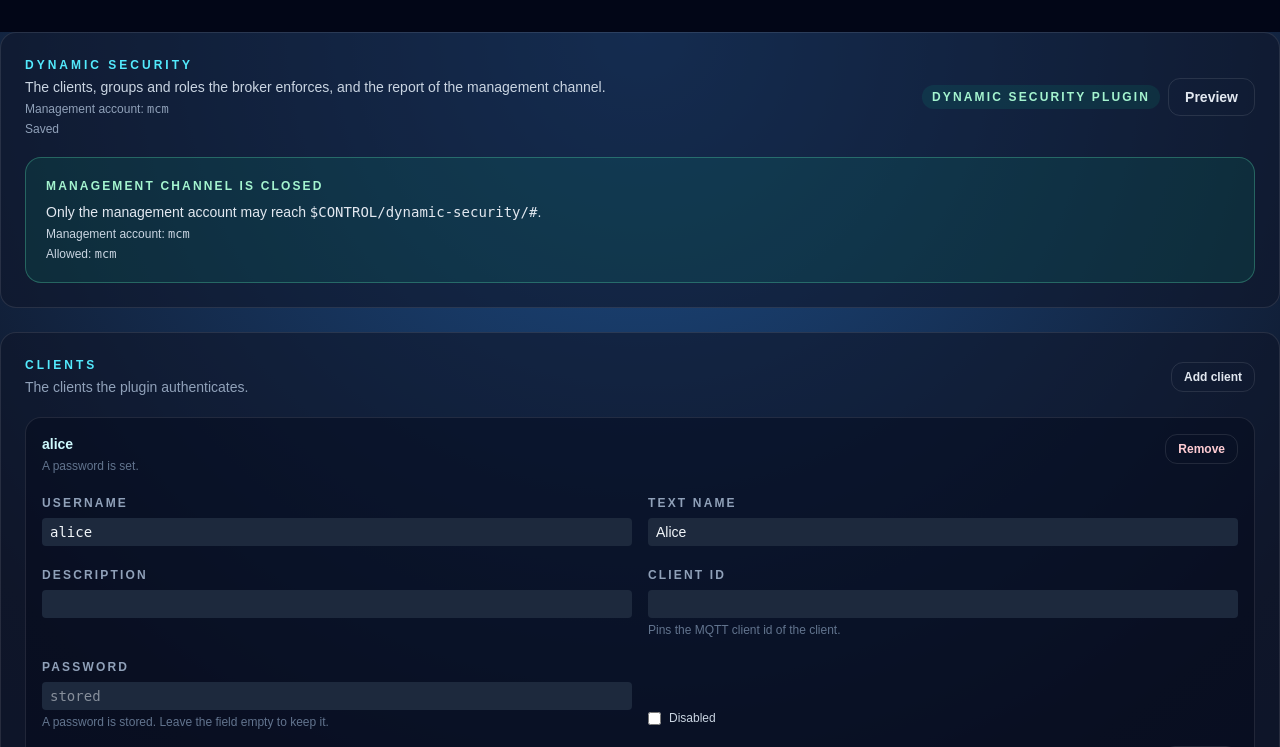
Test case: DynSecPanel › refuses a change that would open the management channel
The width and height of the screenshot is (1280, 747).
Expected: the field named "Username client 1" is shown, [42, 518, 632, 546]
What coordinates should you click on to do the following:
click the button "Preview"
I would click on:
 (1212, 97)
Its box is [1168, 78, 1255, 116].
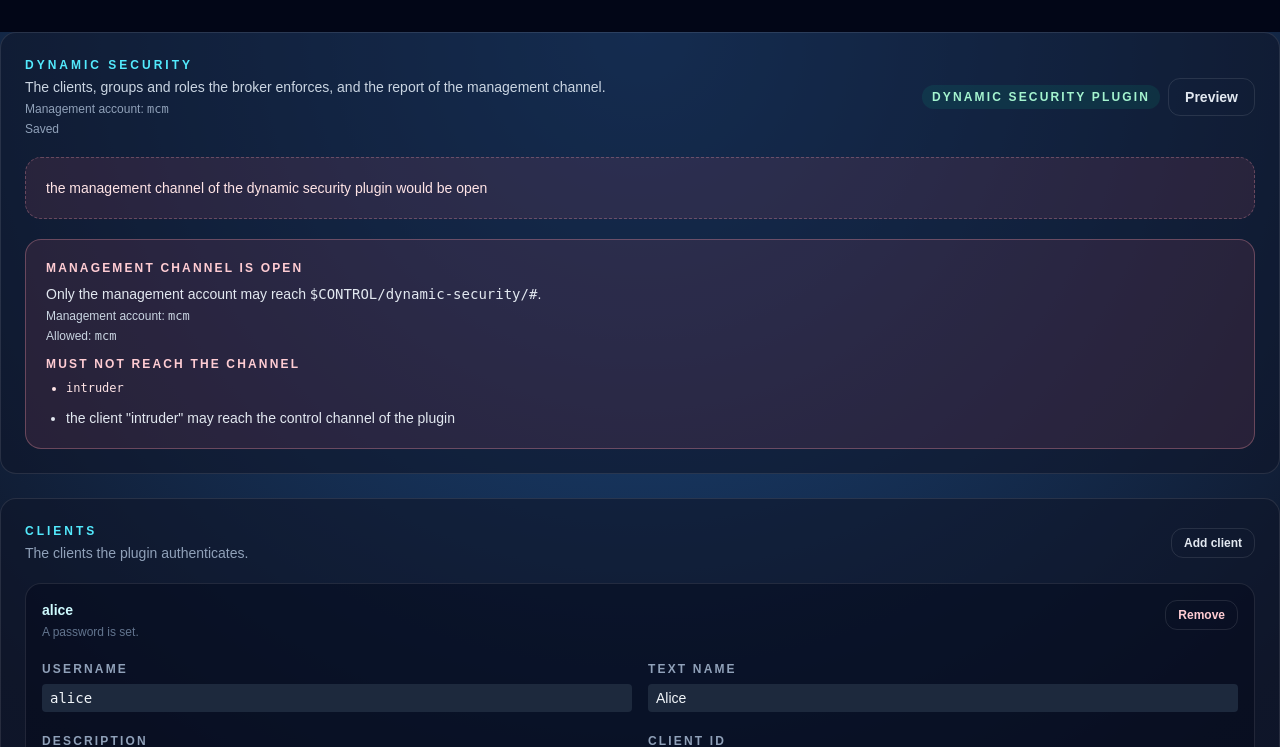
Expected: the text "the management channel of the dynamic security plugin would be open" is shown, [25, 157, 1255, 219]
Expected: the list item "may reach the control channel of the plugin" is shown, [66, 410, 455, 426]
